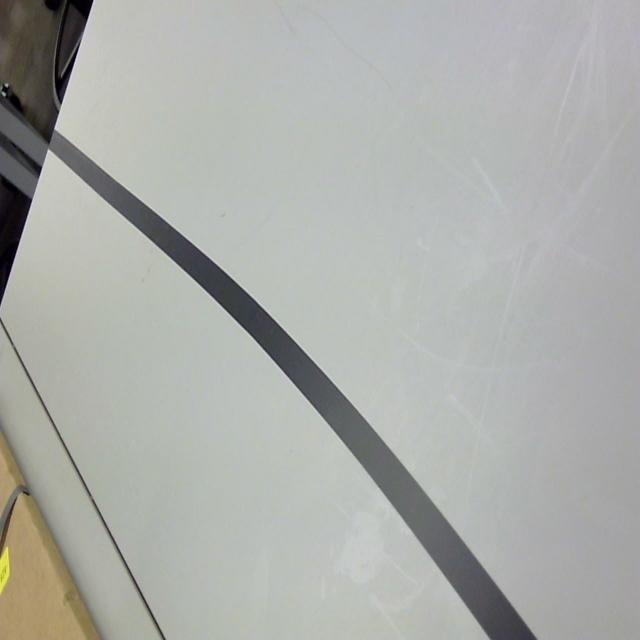tape: (38, 114, 550, 640)
